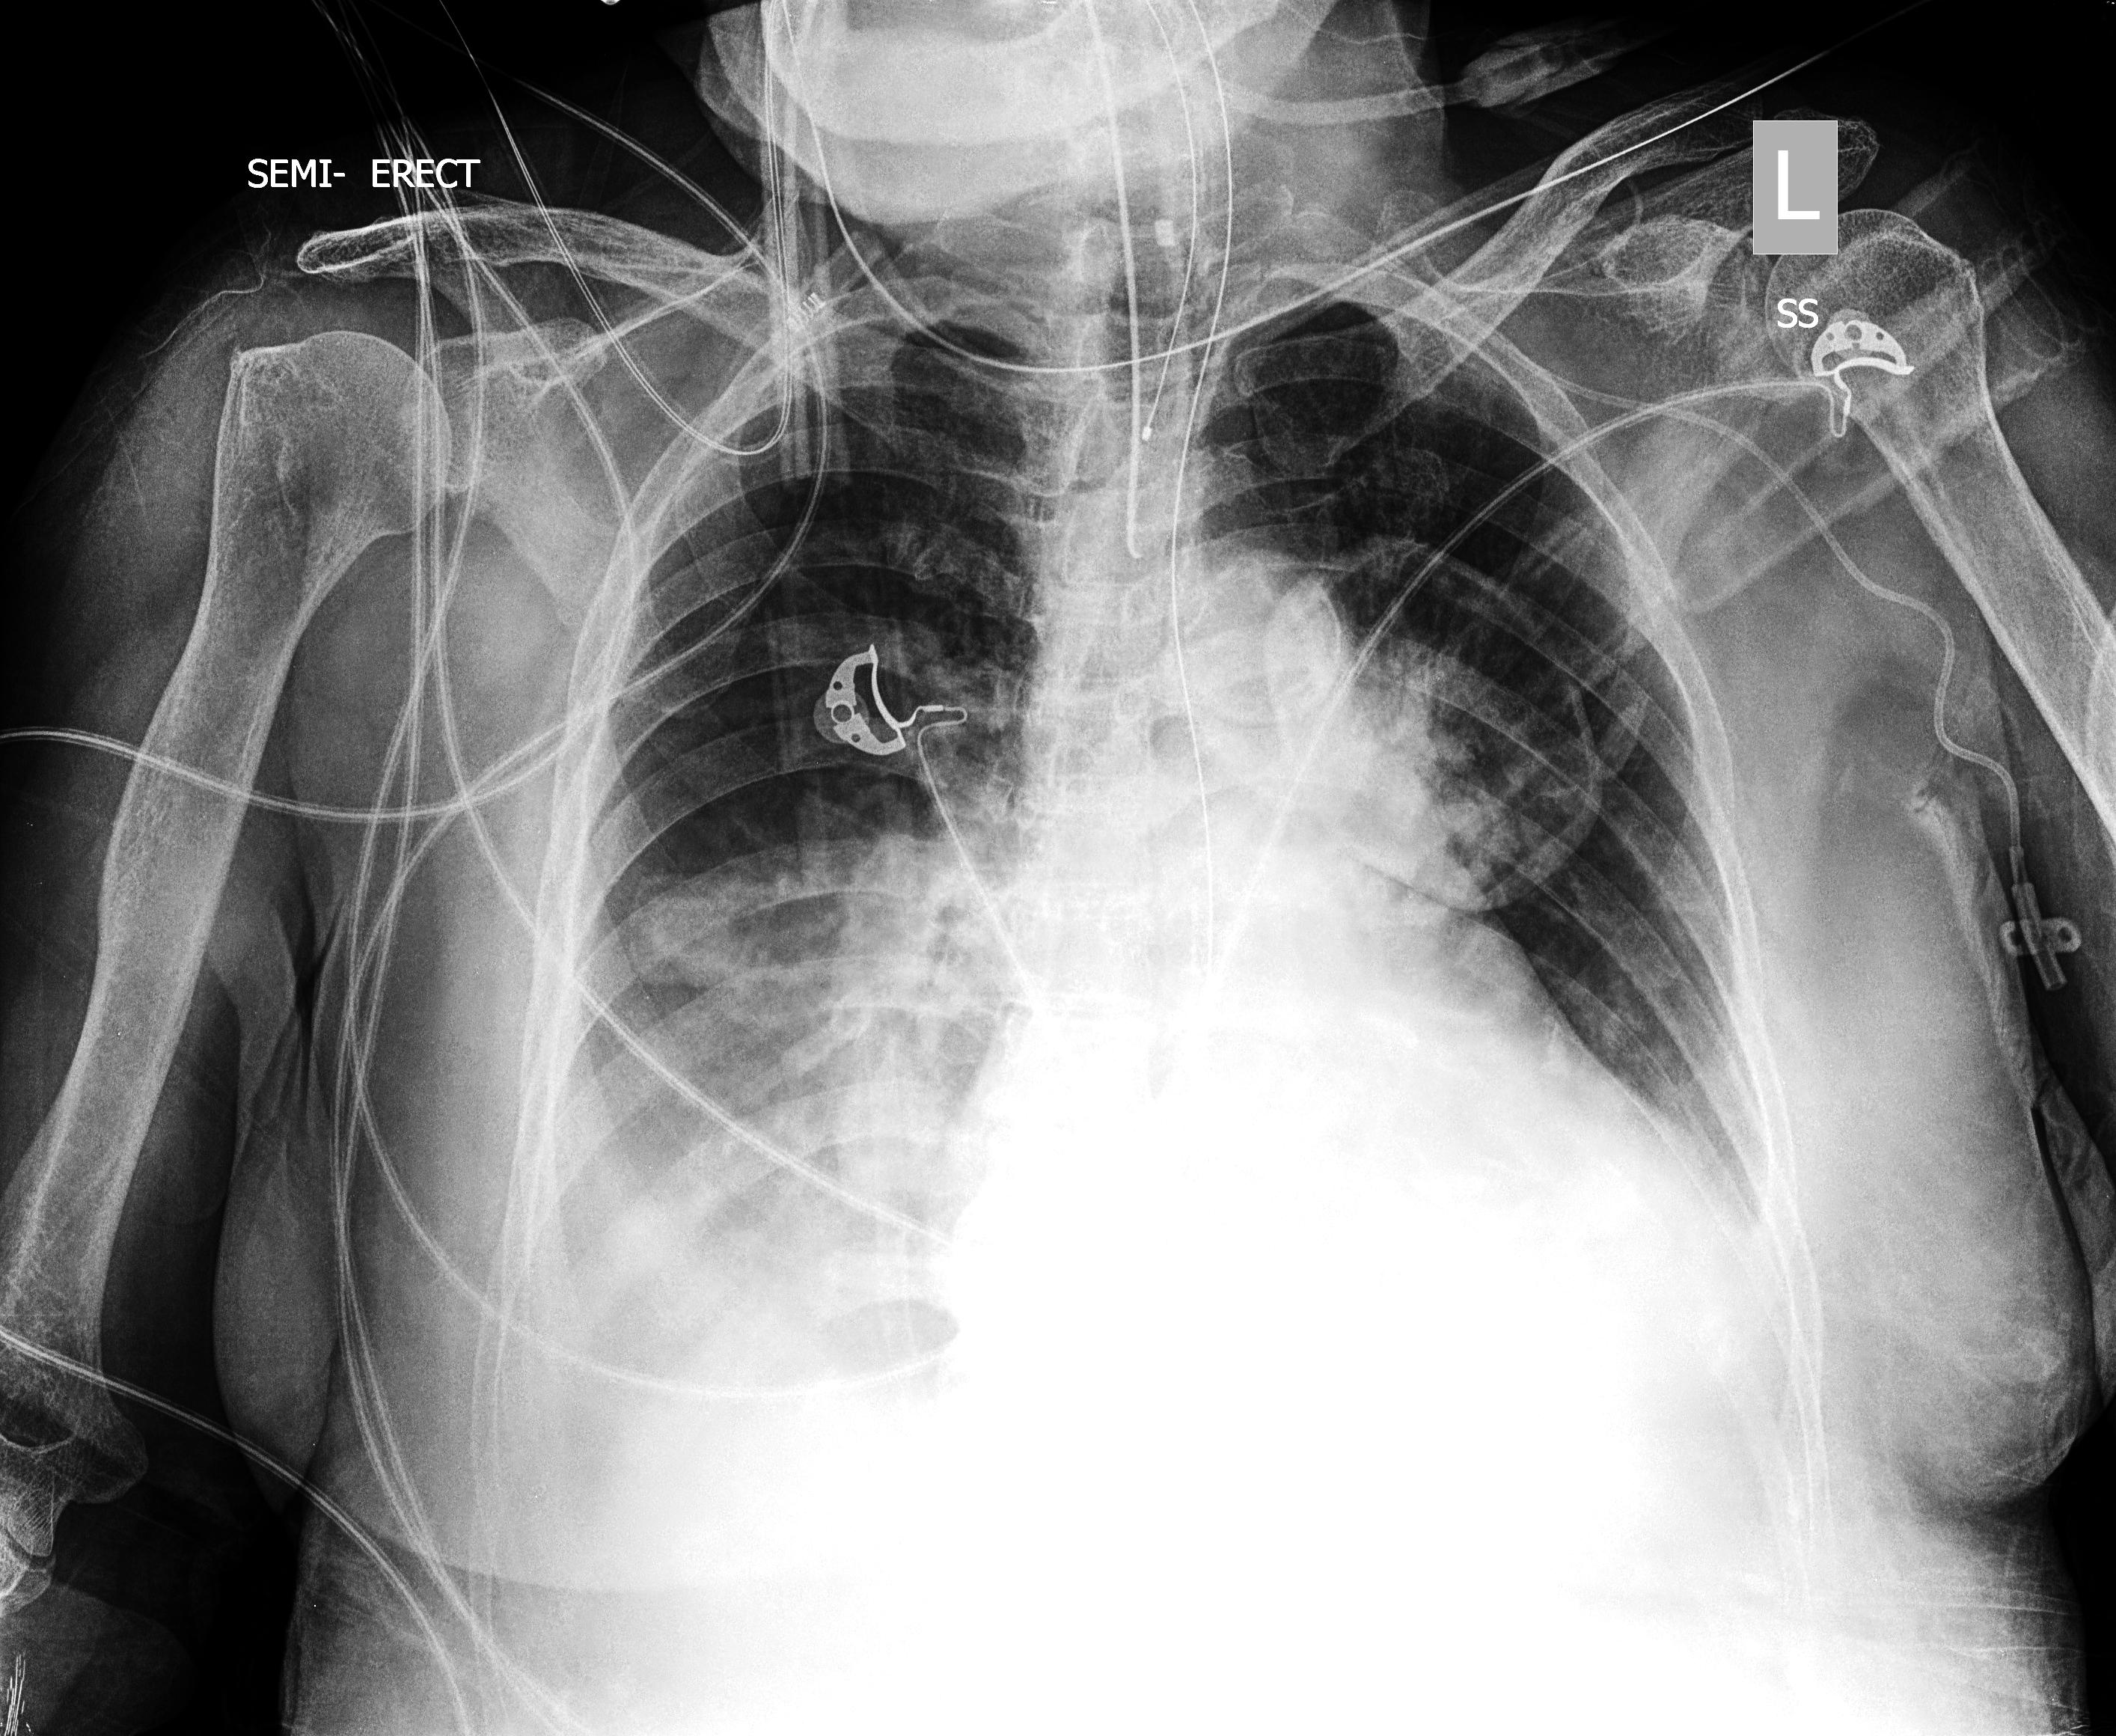Pleural Effusion: (499, 894, 951, 1483), (1573, 1105, 1842, 1516)
